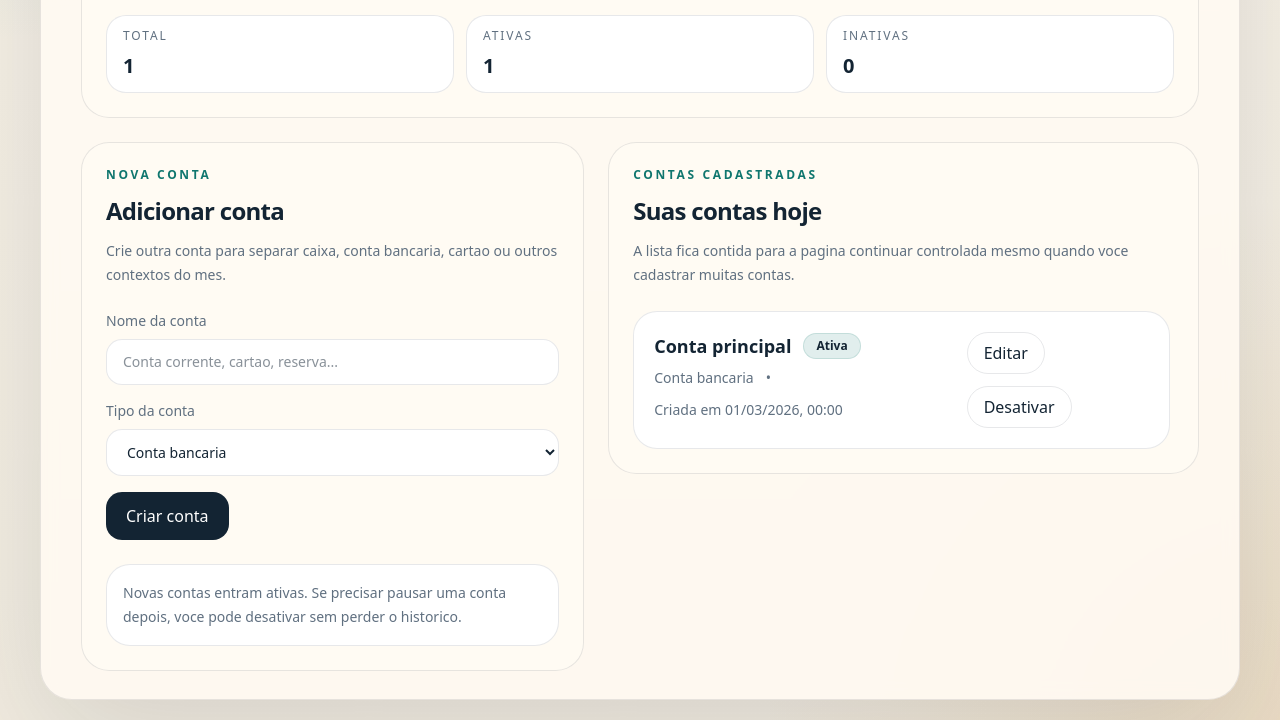
Scenario: AccountsPage › Accounts_CreateAccount_AddsNewAccountAndShowsSuccess
(page scrolled)
Step 1. Type "Reserva" into the field labelled "Nome da conta" → (333, 362), box [106,338,559,384]
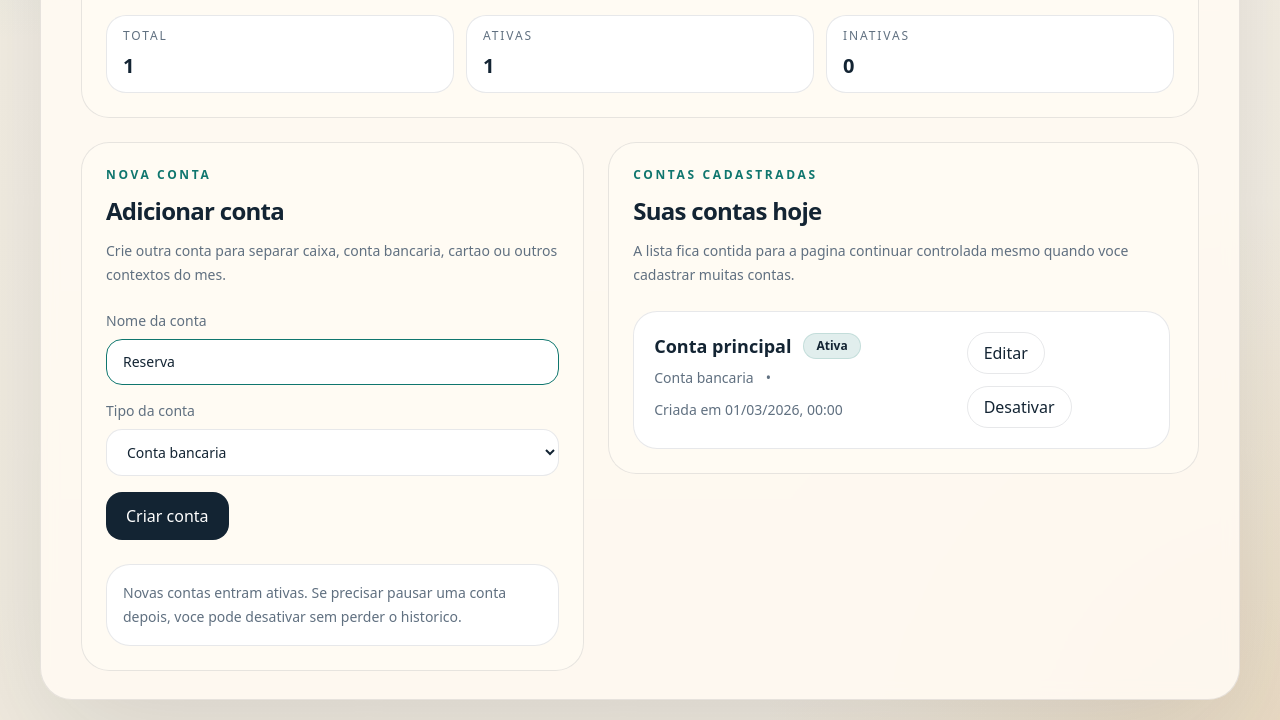
Step 2. Select "Dinheiro" in the dropdown labelled "Tipo da conta" → (333, 452), box [106,428,559,476]
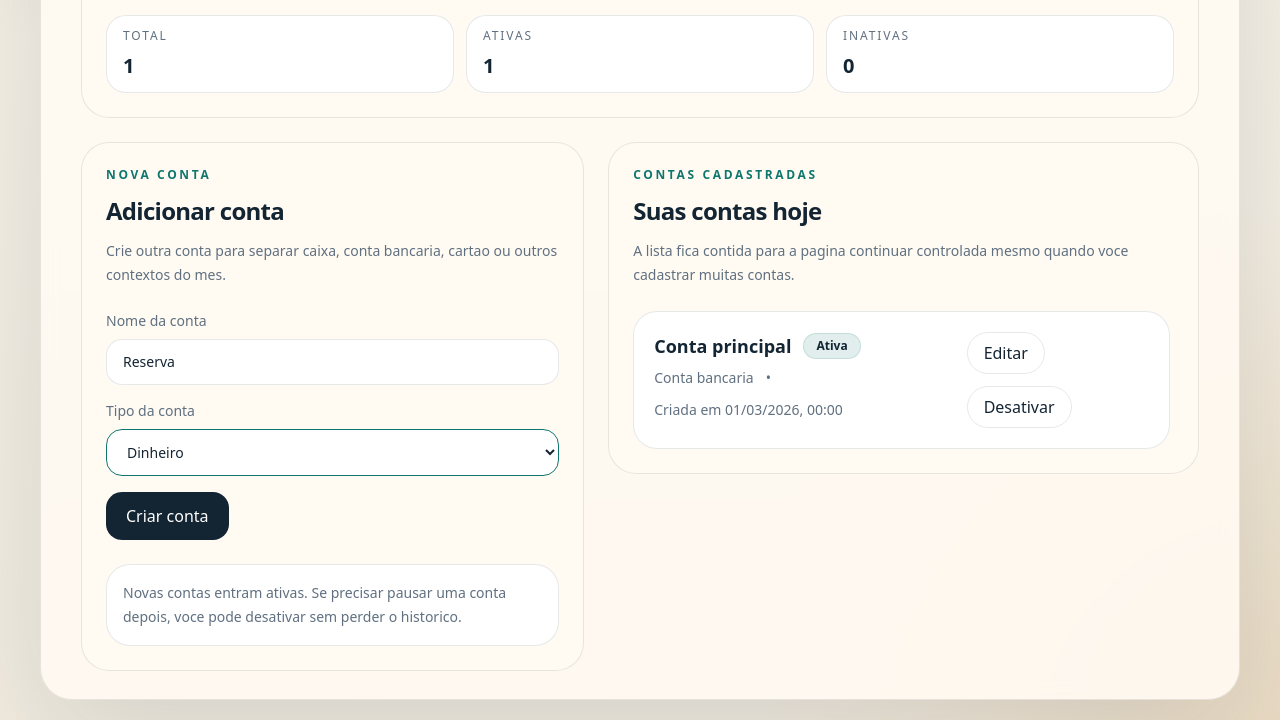
Step 3. Click the button "Criar conta" → (167, 516), box [106,492,229,540]
(page scrolled)
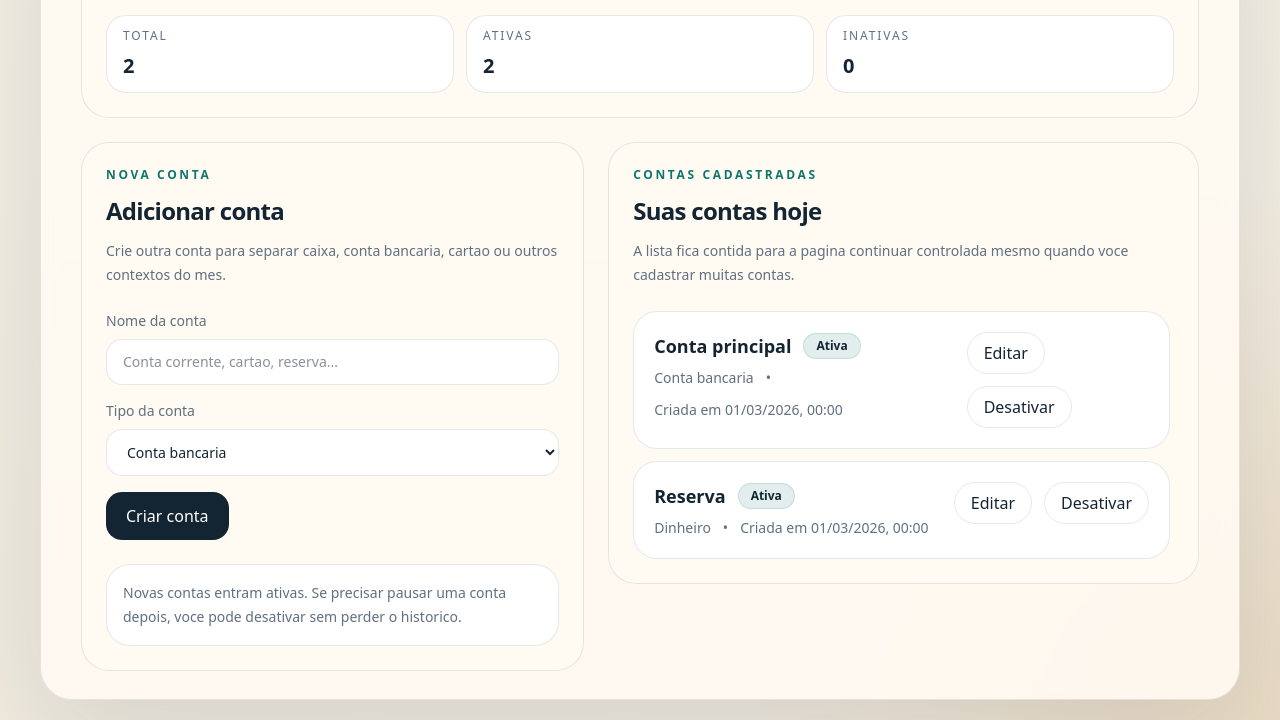
Expected: the text "Reserva" is shown, [654,482,726,510]
